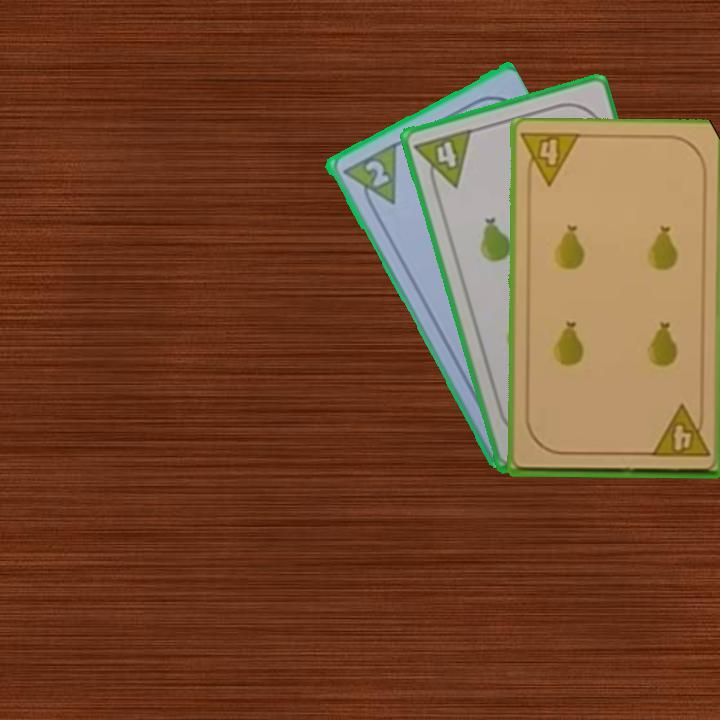2p: (360, 156, 392, 190)
4p: (411, 125, 475, 196), (518, 130, 583, 191), (647, 403, 712, 460)
